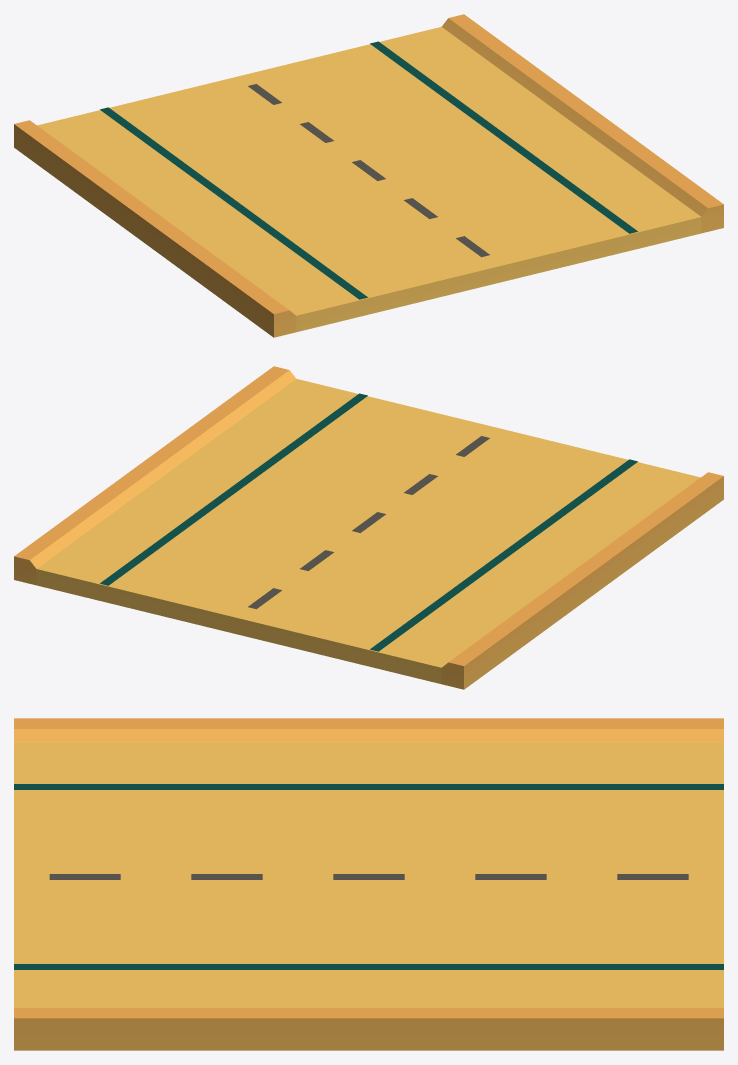
The model's file is road_straight.obj.
3 renders of one model, top to bottom at view 1: azimuth 30°, elevation 25°; view 2: azimuth 150°, elevation 25°; view 3: azimuth 270°, elevation 25°, orthographic. The views are drawn at different scales.
Visible parts, largest first — view 1: road_straight_Cube.952; view 2: road_straight_Cube.952; view 3: road_straight_Cube.952.
Part boxes in pixels (x1,y1,x2,y2): road_straight_Cube.952: [14, 14, 723, 337]; road_straight_Cube.952: [14, 366, 723, 689]; road_straight_Cube.952: [14, 718, 723, 1050].
Size of the model in its own units: 2 by 0.1 by 2.
